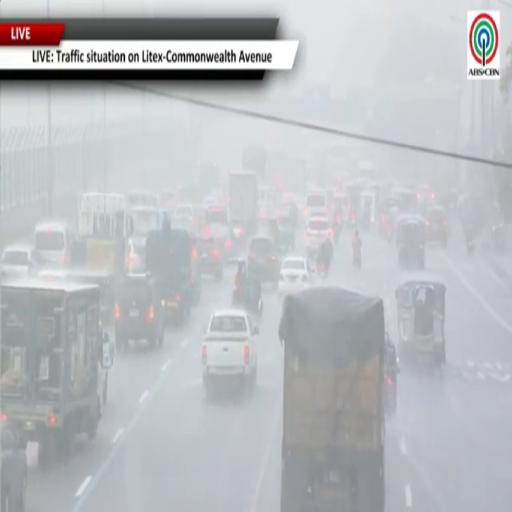car: (202, 309, 258, 396), (114, 274, 165, 348), (0, 423, 28, 511), (33, 222, 76, 266), (198, 224, 232, 279), (247, 236, 280, 286), (2, 245, 43, 277), (279, 256, 312, 294), (305, 216, 332, 254), (127, 237, 145, 273), (171, 204, 194, 230), (306, 190, 327, 218)
motorcycle: (232, 287, 263, 317), (384, 374, 396, 413), (317, 261, 328, 278), (333, 223, 341, 243), (466, 236, 474, 255), (353, 252, 361, 268)
truck: (279, 287, 385, 511), (0, 278, 114, 466), (71, 192, 133, 324), (146, 223, 200, 323), (229, 171, 258, 235), (242, 146, 269, 181)
